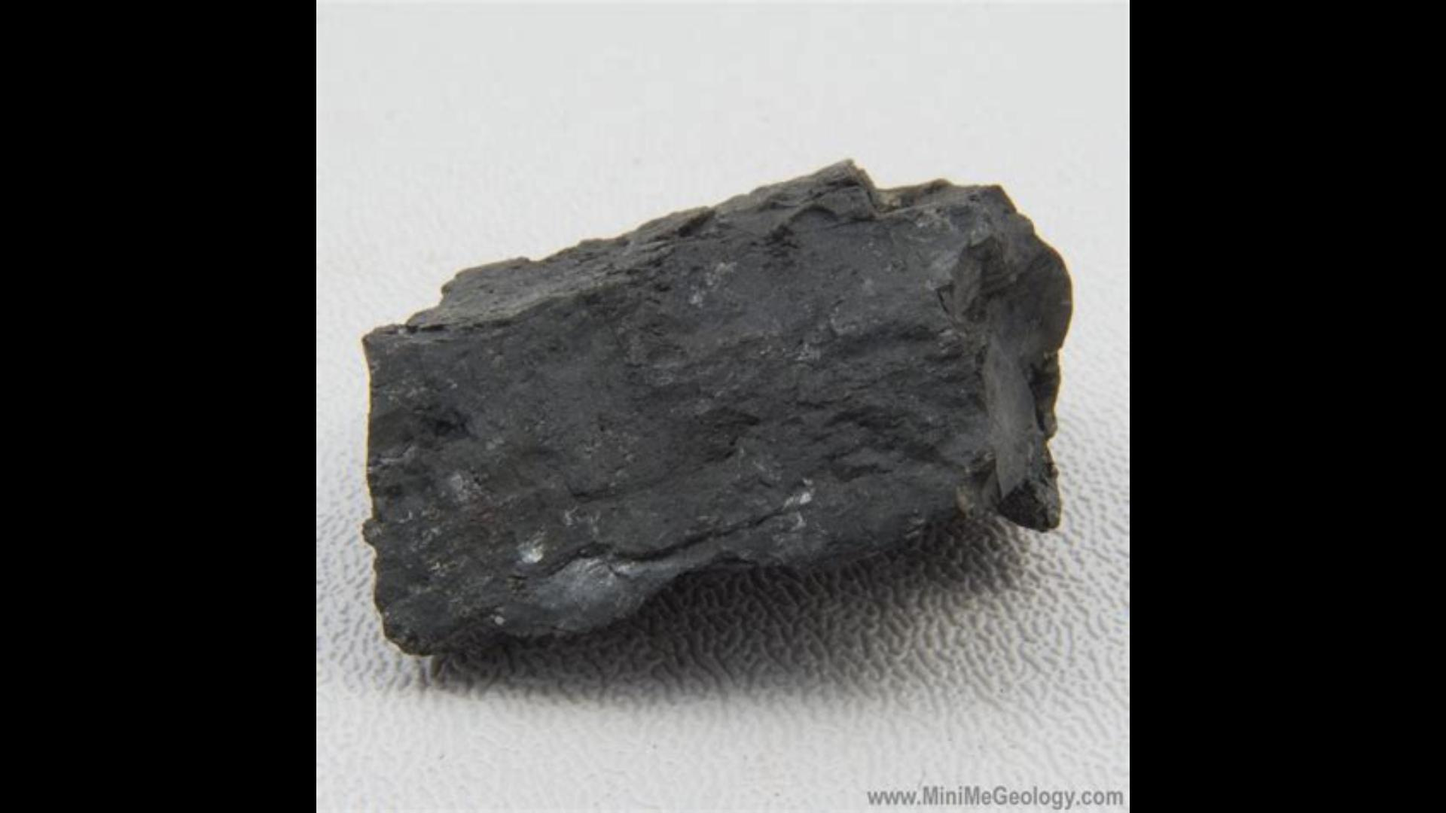rock: (364, 161, 1070, 653)
